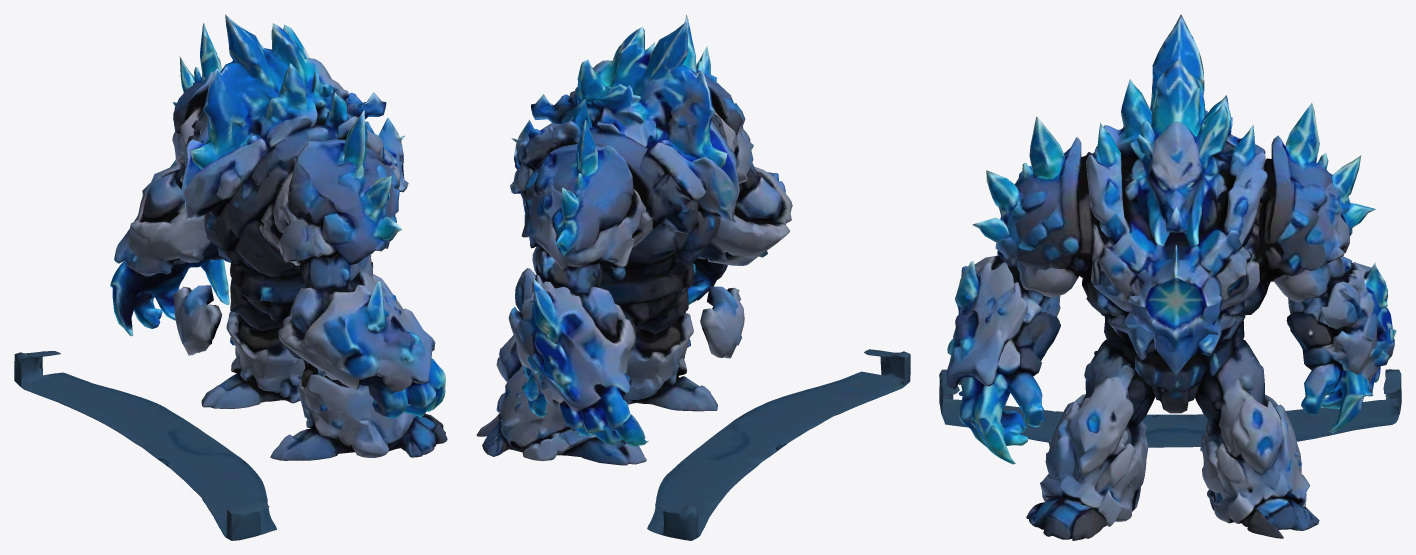
The model's file is snow-overlord.glb.
3 renders of one model, left to right at view 1: azimuth 30°, elevation 25°; view 2: azimuth 150°, elevation 25°; view 3: azimuth 270°, elevation 25°, orthographic. The views are drawn at different scales.
Visible parts, largest first — view 1: tripo_node_c55568ca-1636-46db-b6bb-87b6d49b7553; view 2: tripo_node_c55568ca-1636-46db-b6bb-87b6d49b7553; view 3: tripo_node_c55568ca-1636-46db-b6bb-87b6d49b7553.
Part boxes in pixels (bbox=[...]): tripo_node_c55568ca-1636-46db-b6bb-87b6d49b7553: bbox=[14, 14, 447, 540]; tripo_node_c55568ca-1636-46db-b6bb-87b6d49b7553: bbox=[476, 14, 910, 540]; tripo_node_c55568ca-1636-46db-b6bb-87b6d49b7553: bbox=[939, 14, 1401, 540].
Bounding box in the file's own units: 0.7141 × 1 × 0.9487.
1 material, 1 textured.
